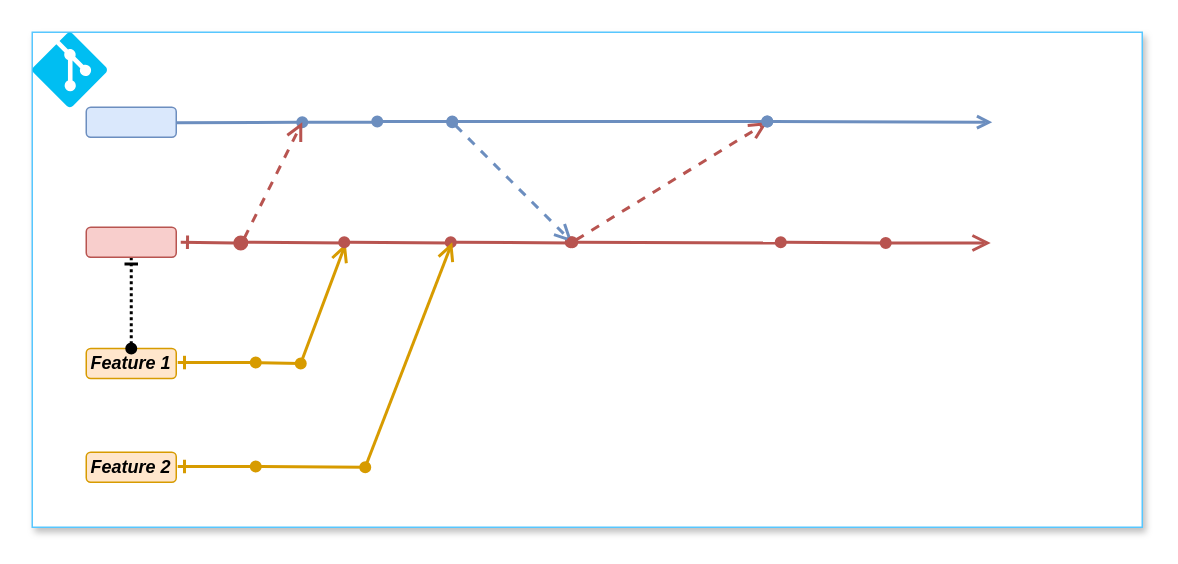
Image size: 1178x564. Some labels were removed from this diagram. Each missing label, with the centre of its shape:
"HotFix" belongs at [130,121].
"Master" belongs at [130,241].
